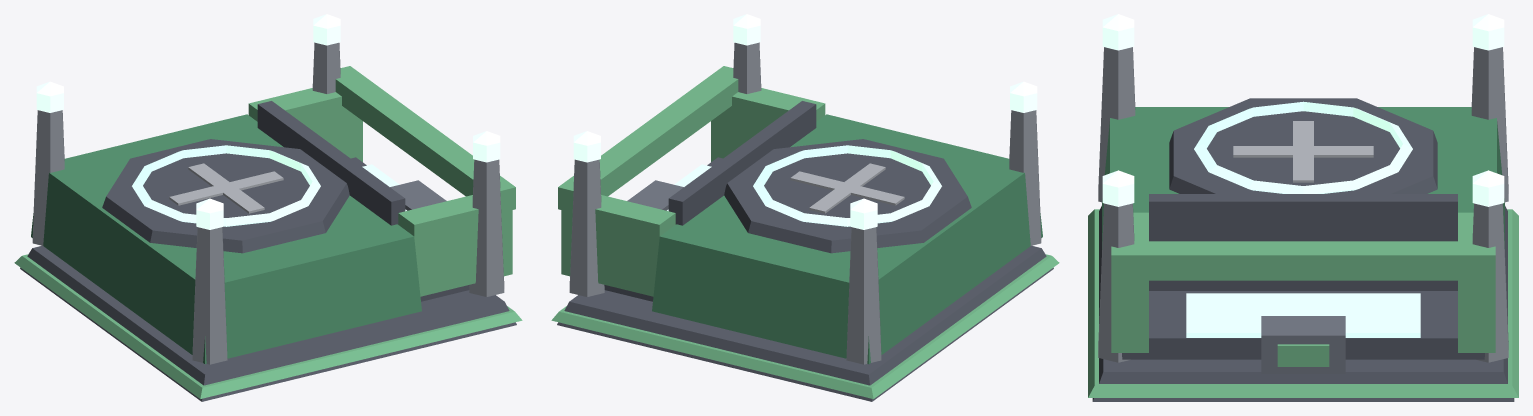
The model's file is depot.glb.
The picture shows the model from 3 angles, left to right: view 1: azimuth 30°, elevation 25°; view 2: azimuth 150°, elevation 25°; view 3: azimuth 270°, elevation 25°; orthographic projection. The views are drawn at different scales.
Visible parts, largest first — view 1: Body, GlowPad, GlowBeacons; view 2: Body, GlowPad, GlowBeacons; view 3: Body, GlowBay, GlowPad, GlowBeacons.
Part boxes in pixels (x1=…): Body: x1=14, y1=42, x2=522, y2=401; GlowPad: x1=132, y1=145, x2=320, y2=226; GlowBeacons: x1=36, y1=14, x2=500, y2=229; Body: x1=551, y1=42, x2=1059, y2=401; GlowPad: x1=753, y1=145, x2=941, y2=226; GlowBeacons: x1=573, y1=14, x2=1037, y2=229; Body: x1=1088, y1=47, x2=1518, y2=401; GlowBay: x1=1186, y1=293, x2=1420, y2=337; GlowPad: x1=1194, y1=101, x2=1412, y2=193; GlowBeacons: x1=1102, y1=14, x2=1504, y2=206.
Bounding box in the file's own units: 0.948 × 0.52 × 0.92.
